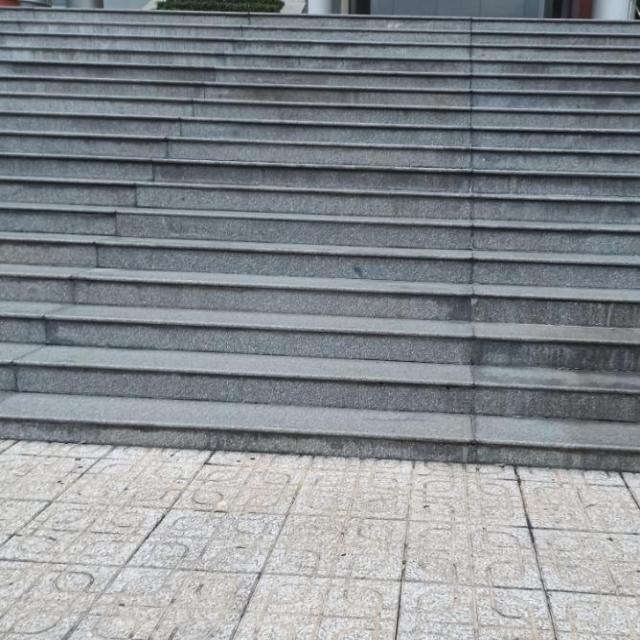Stairs: (0, 6, 639, 470)
